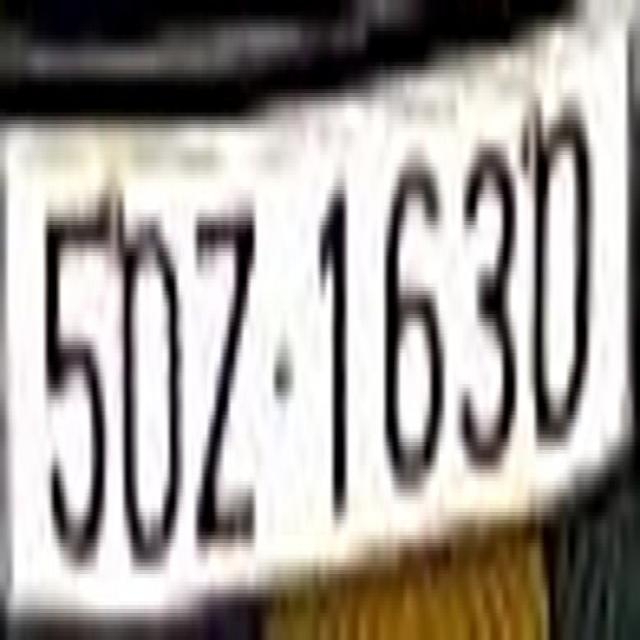0: (120, 213, 181, 574), (528, 89, 588, 431)
1: (315, 175, 353, 528)
3: (457, 108, 514, 466)
5: (41, 202, 115, 562)
6: (383, 136, 445, 473)
Z: (191, 194, 257, 547)
